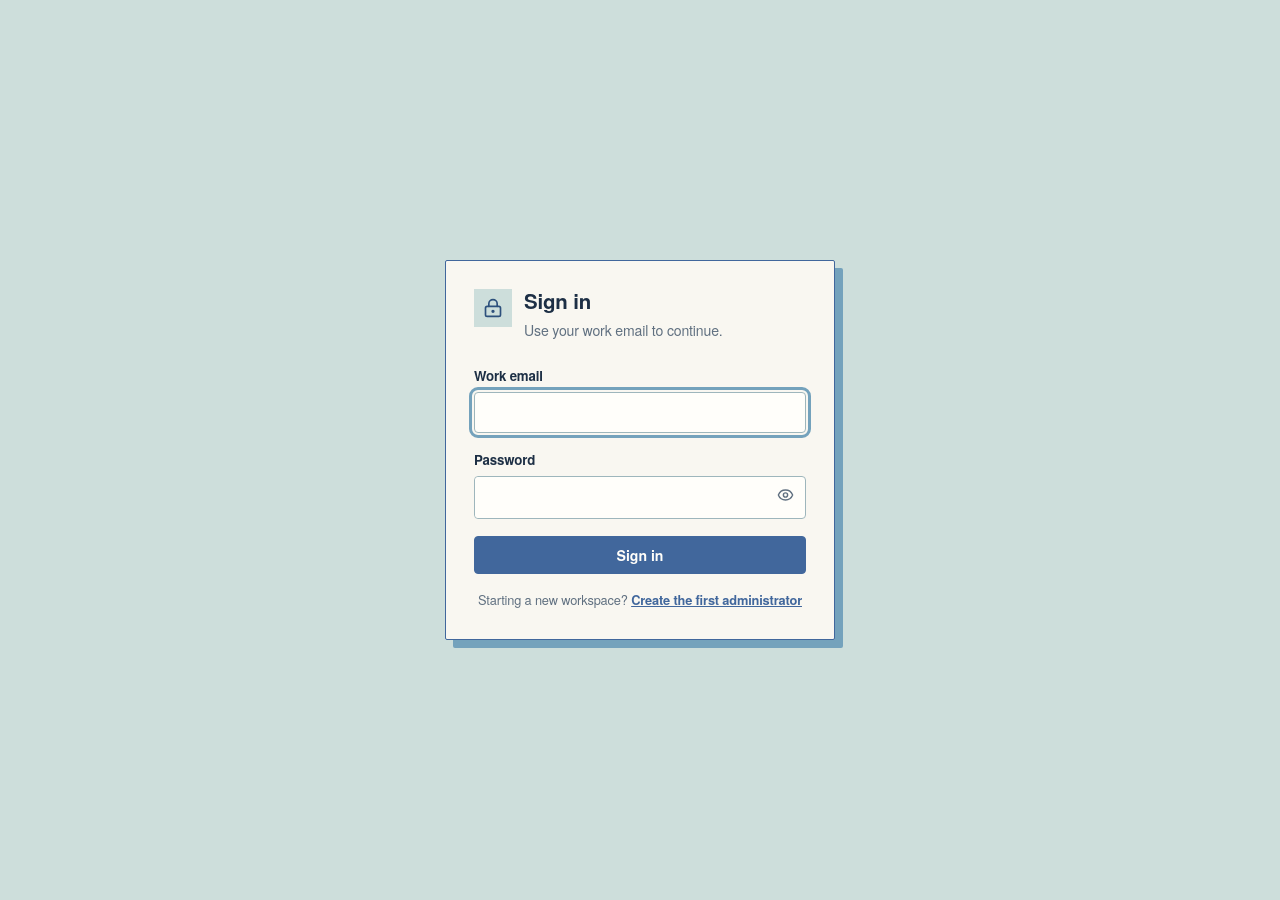
Test: Dayflow application › takes HR to the employee directory after sign in
Type "hr@example.test" into the field labelled "Work email" at (640, 412), box [474,392,806,433]
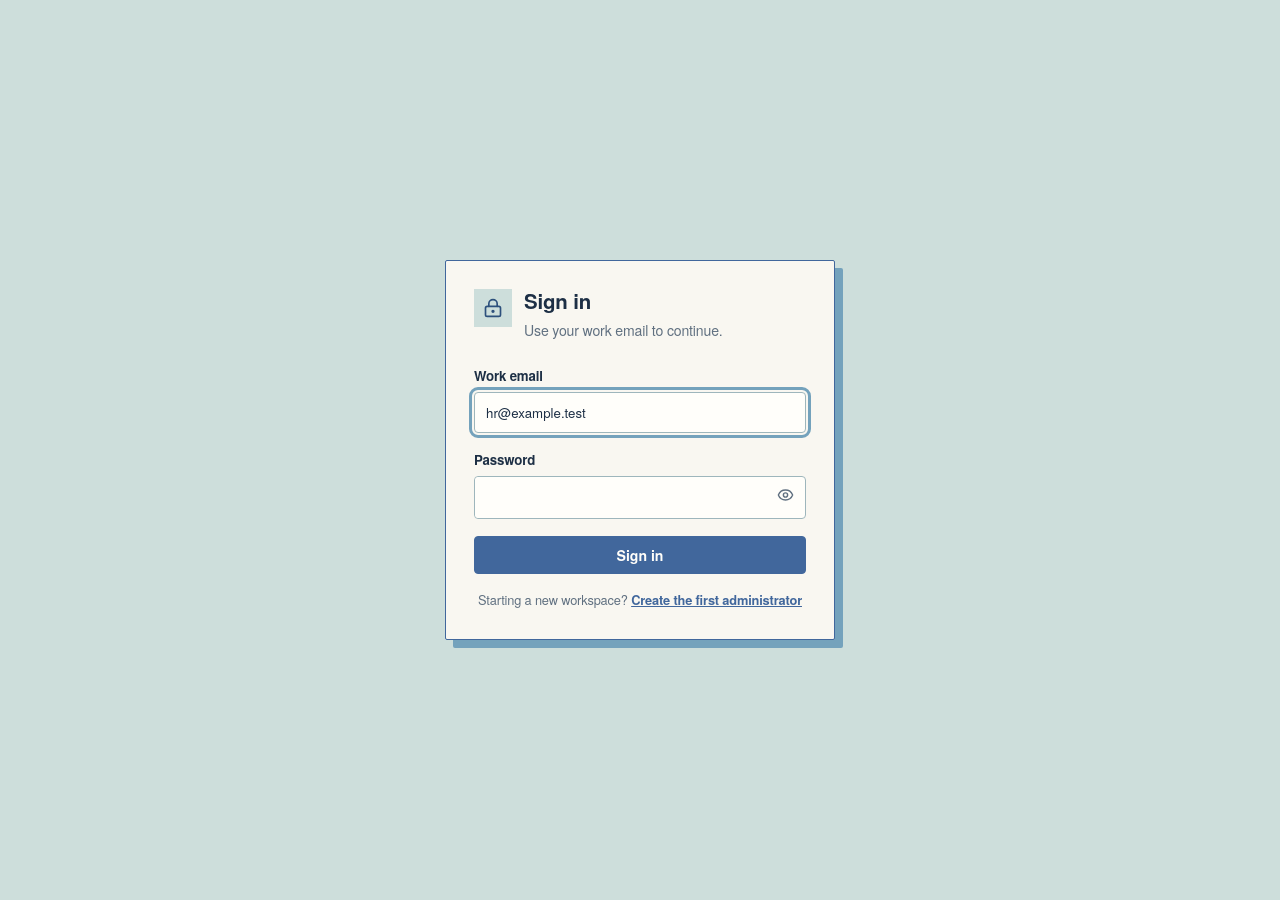
Type "TestPassword123!" into the password field labelled "Password" at (621, 497), box [475,477,767,518]
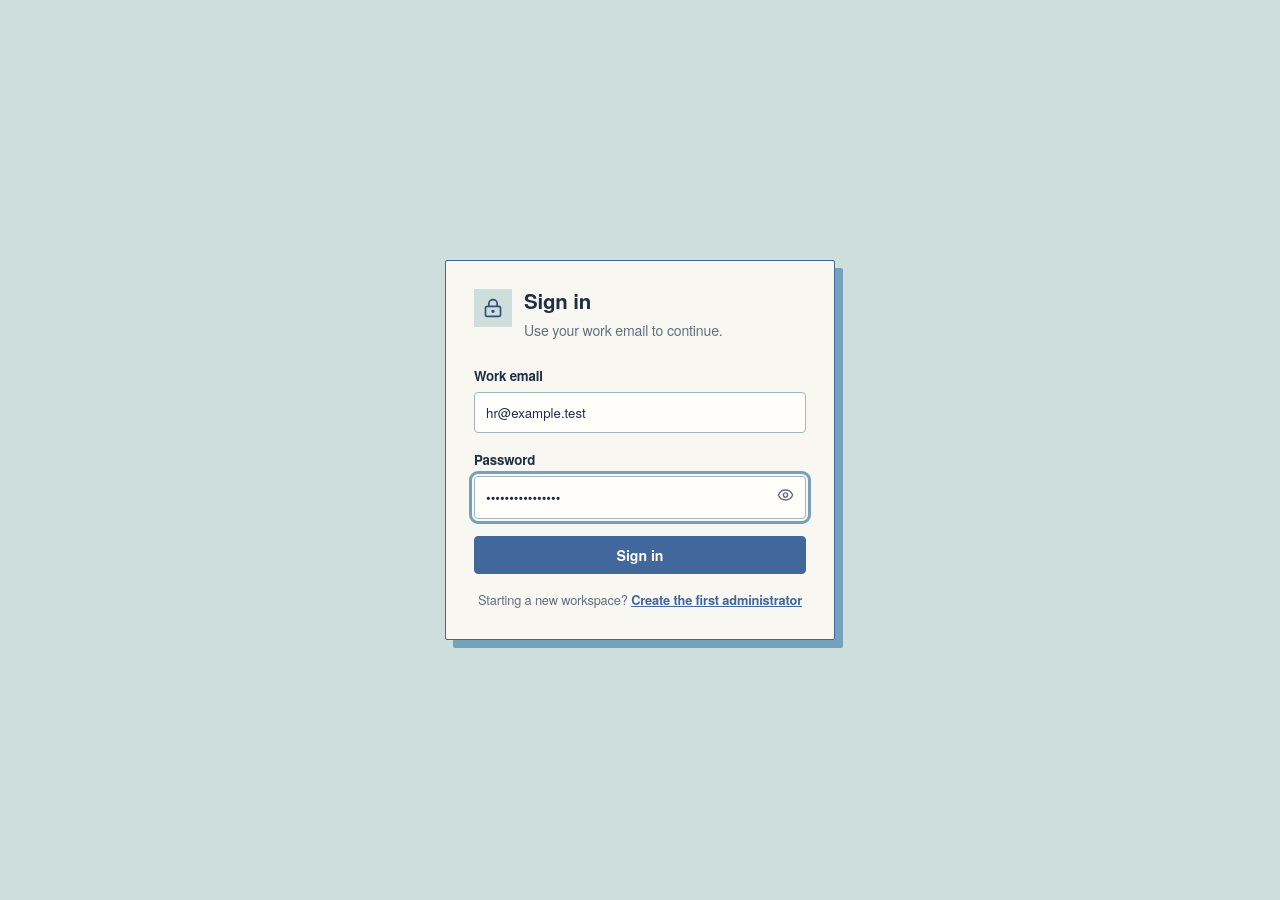
Click the button "Sign in" at (640, 555), box [474,536,806,574]
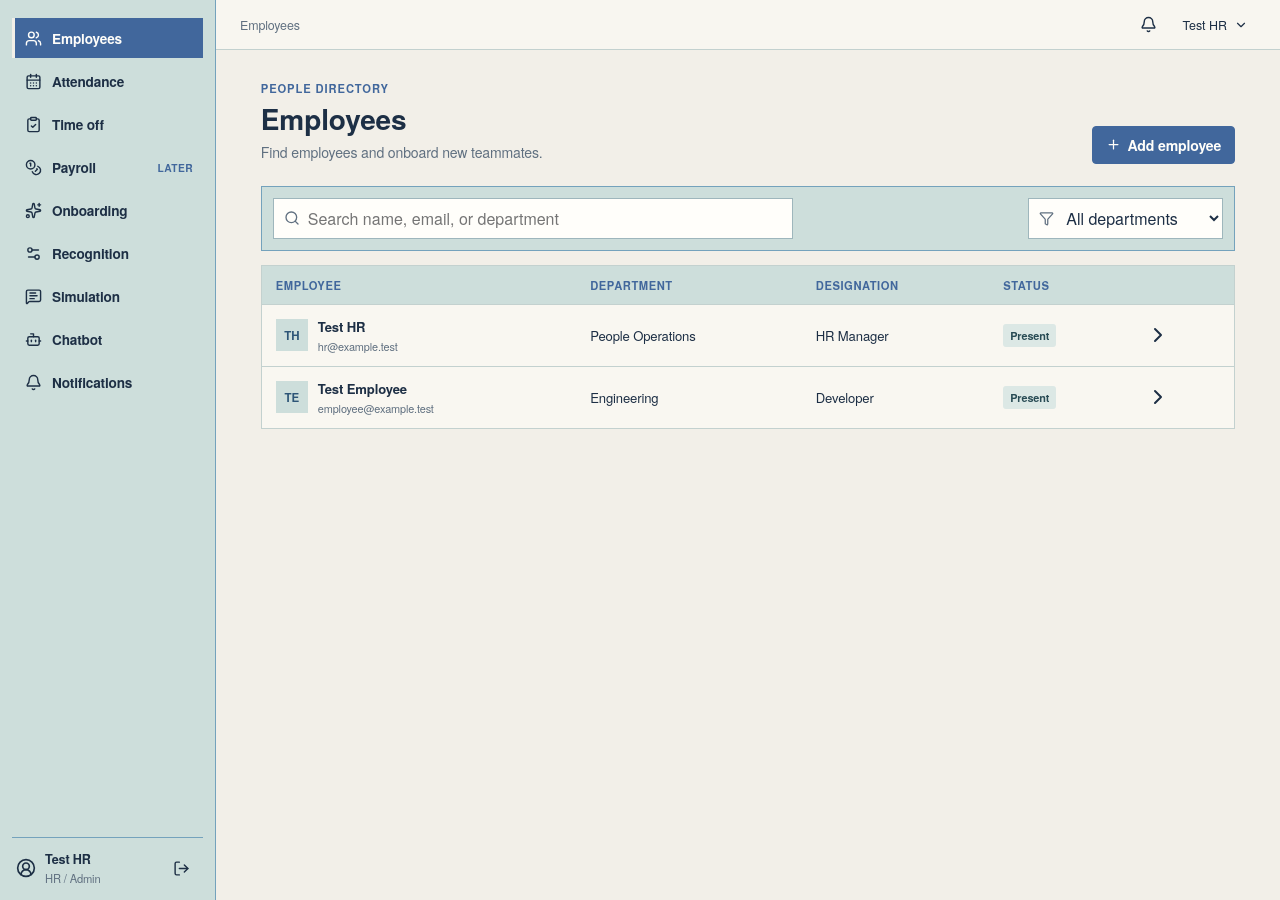
Expected: the heading "Employees" is shown, [261,98,406,139]
Expected: the text "Test Employee" is shown, [318,379,407,398]
